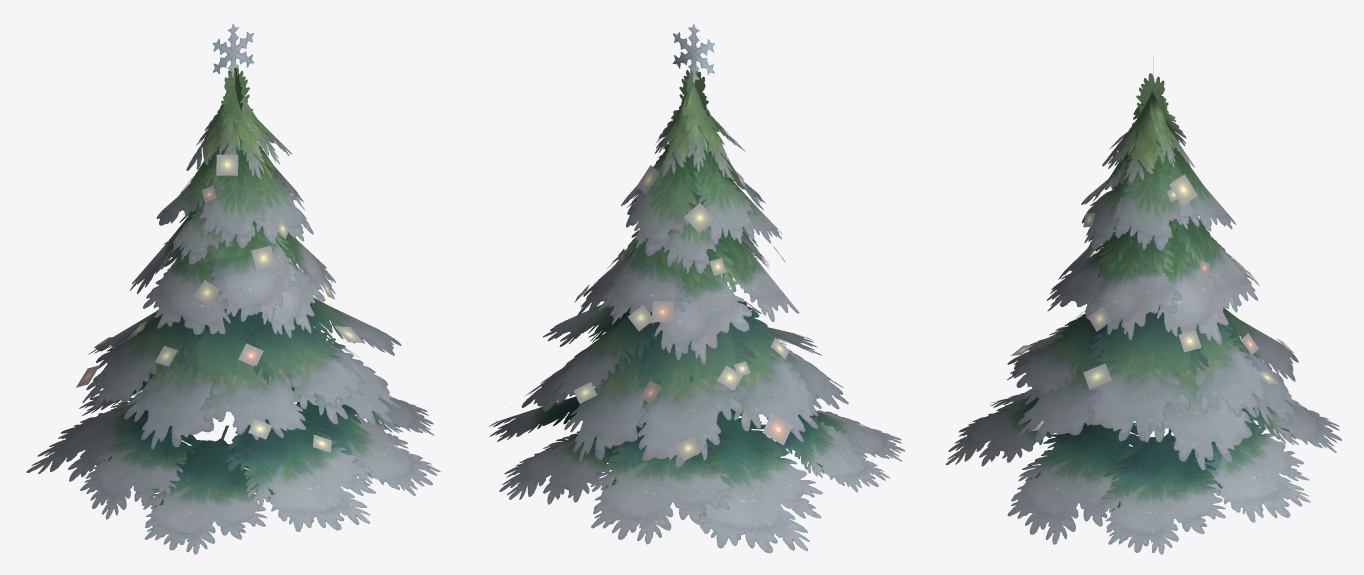
Rendered from pref_sm_beach_winter_tree01_lv3.fbx.
The picture shows the model from 3 angles, left to right: view 1: azimuth 30°, elevation 25°; view 2: azimuth 150°, elevation 25°; view 3: azimuth 270°, elevation 25°; orthographic projection. The views are drawn at different scales.
Parts seen in each view (by area): view 1: pref_sm_beach_winter_tree01_lv3, pref_sm_beach_winter_tree01b_lv3; view 2: pref_sm_beach_winter_tree01_lv3, pref_sm_beach_winter_tree01b_lv3; view 3: pref_sm_beach_winter_tree01_lv3, pref_sm_beach_winter_tree01b_lv3.
Boxes of the visible parts, x1,y1,x2,y2 form: pref_sm_beach_winter_tree01_lv3: [26, 24, 440, 554]; pref_sm_beach_winter_tree01b_lv3: [76, 154, 363, 452]; pref_sm_beach_winter_tree01_lv3: [489, 24, 904, 553]; pref_sm_beach_winter_tree01b_lv3: [573, 136, 813, 460]; pref_sm_beach_winter_tree01_lv3: [945, 56, 1341, 554]; pref_sm_beach_winter_tree01b_lv3: [1011, 132, 1294, 430].
Size of the model in its own units: 6.27 by 7.33 by 6.14.
